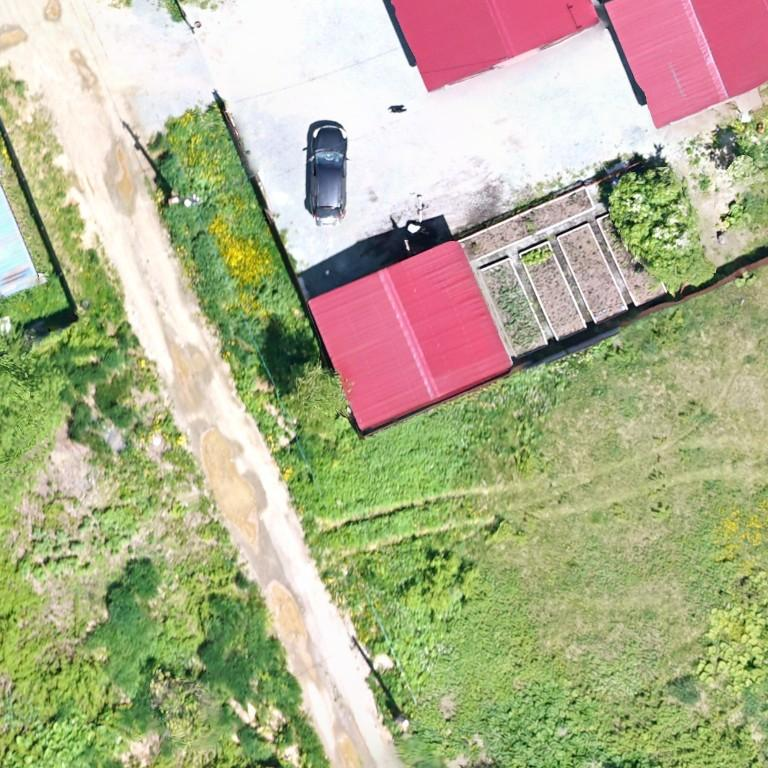hogweed: (411, 683, 650, 767)
